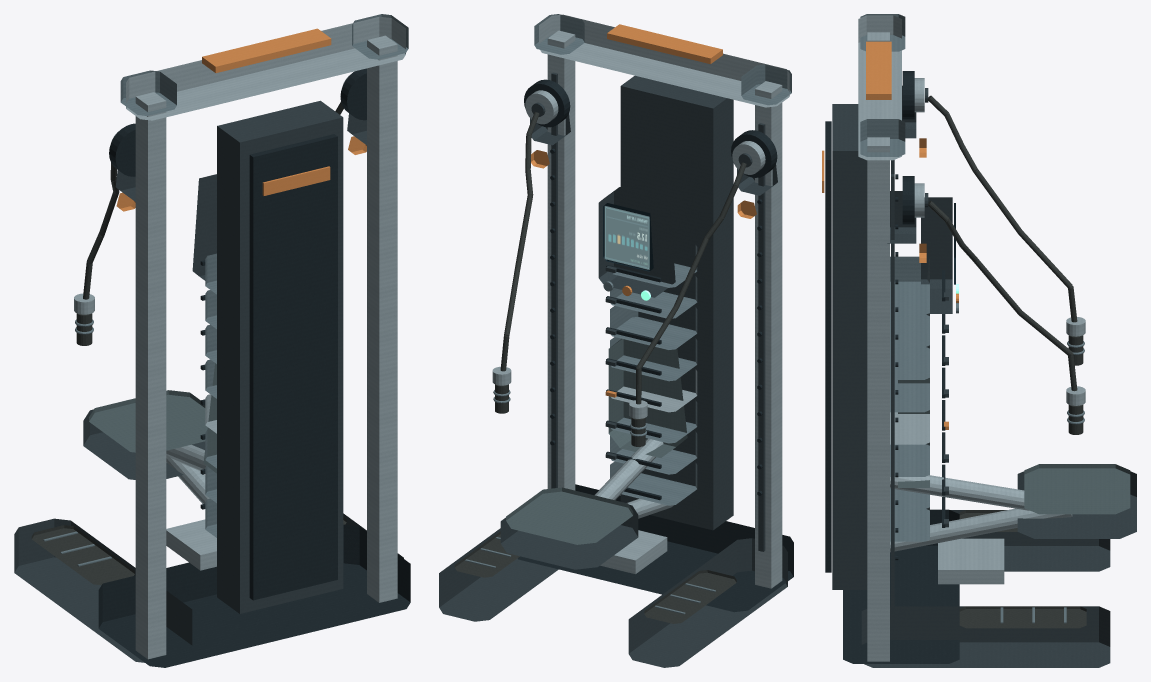
File: exercise_station.glb
The picture shows the model from 3 angles, left to right: view 1: azimuth 30°, elevation 25°; view 2: azimuth 150°, elevation 25°; view 3: azimuth 270°, elevation 25°; orthographic projection. The views are drawn at different scales.
Visible parts, largest first — view 1: static__carbon, static__alloy, static__graphite, static__trim, Seat_Fold__seat, static__amber, static__rubber, Console_Display__graphite, Seat_Fold__graphite, Seat_Fold__alloy; view 2: static__graphite, static__alloy, static__carbon, static__trim, Seat_Fold__seat, static__rubber, Console_Display__graphite, Seat_Fold__graphite, static__amber, Console_Display__exercise_screen, Seat_Fold__alloy, Console_Display__screen; view 3: static__graphite, static__alloy, static__carbon, static__trim, static__rubber, Seat_Fold__seat, Seat_Fold__alloy, Seat_Fold__graphite, Console_Display__graphite, static__amber.
Boxes of the visible parts, left/top/right/bottom form: static__carbon: left=98, top=68, right=410, bottom=667; static__alloy: left=111, top=16, right=405, bottom=659; static__graphite: left=14, top=100, right=403, bottom=662; static__trim: left=43, top=14, right=408, bottom=566; Seat_Fold__seat: left=89, top=363, right=216, bottom=473; static__amber: left=116, top=28, right=366, bottom=211; static__rubber: left=31, top=102, right=346, bottom=585; Console_Display__graphite: left=192, top=174, right=216, bottom=280; Seat_Fold__graphite: left=83, top=409, right=205, bottom=479; Seat_Fold__alloy: left=166, top=444, right=209, bottom=503; static__graphite: left=439, top=72, right=787, bottom=667; static__alloy: left=525, top=14, right=789, bottom=588; static__carbon: left=517, top=79, right=793, bottom=612; static__trim: left=465, top=14, right=791, bottom=614; Seat_Fold__seat: left=506, top=338, right=687, bottom=544; static__rubber: left=454, top=112, right=746, bottom=623; Console_Display__graphite: left=598, top=187, right=675, bottom=297; Seat_Fold__graphite: left=500, top=504, right=638, bottom=569; static__amber: left=531, top=24, right=756, bottom=397; Console_Display__exercise_screen: left=604, top=206, right=649, bottom=269; Seat_Fold__alloy: left=594, top=438, right=673, bottom=518; Console_Display__screen: left=603, top=203, right=653, bottom=271; static__graphite: left=832, top=85, right=1110, bottom=667; static__alloy: left=858, top=15, right=1004, bottom=661; static__carbon: left=825, top=71, right=959, bottom=663; static__trim: left=860, top=14, right=1066, bottom=623; static__rubber: left=928, top=95, right=1086, bottom=628; Seat_Fold__seat: left=898, top=378, right=1130, bottom=514; Seat_Fold__alloy: left=890, top=475, right=1072, bottom=552; Seat_Fold__graphite: left=1017, top=471, right=1136, bottom=538; Console_Display__graphite: left=921, top=197, right=952, bottom=313; static__amber: left=822, top=41, right=948, bottom=429.
Size of the model in its own units: 1.12 by 2.25 by 1.19.
10 materials, 10 textured.
